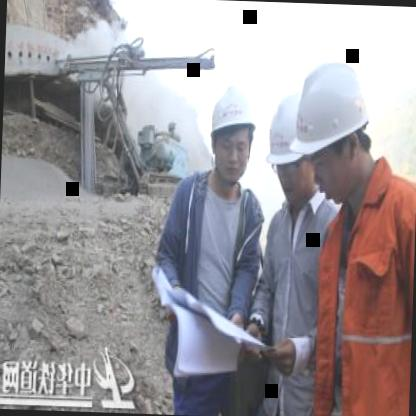helmet: (292, 46, 374, 203), (202, 73, 264, 189), (262, 88, 316, 215)
